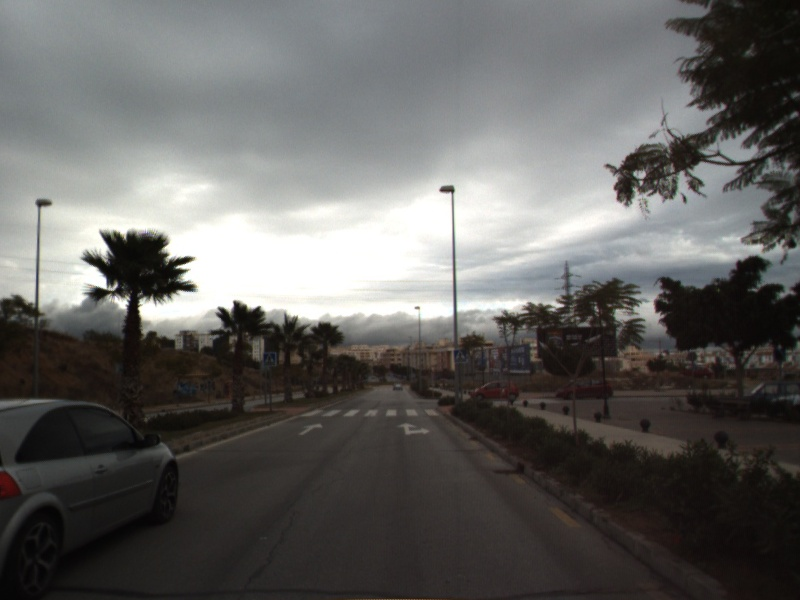STRAIGHT: (296, 421, 325, 437)
STRAIGHT_RIGHT: (395, 420, 432, 437)
